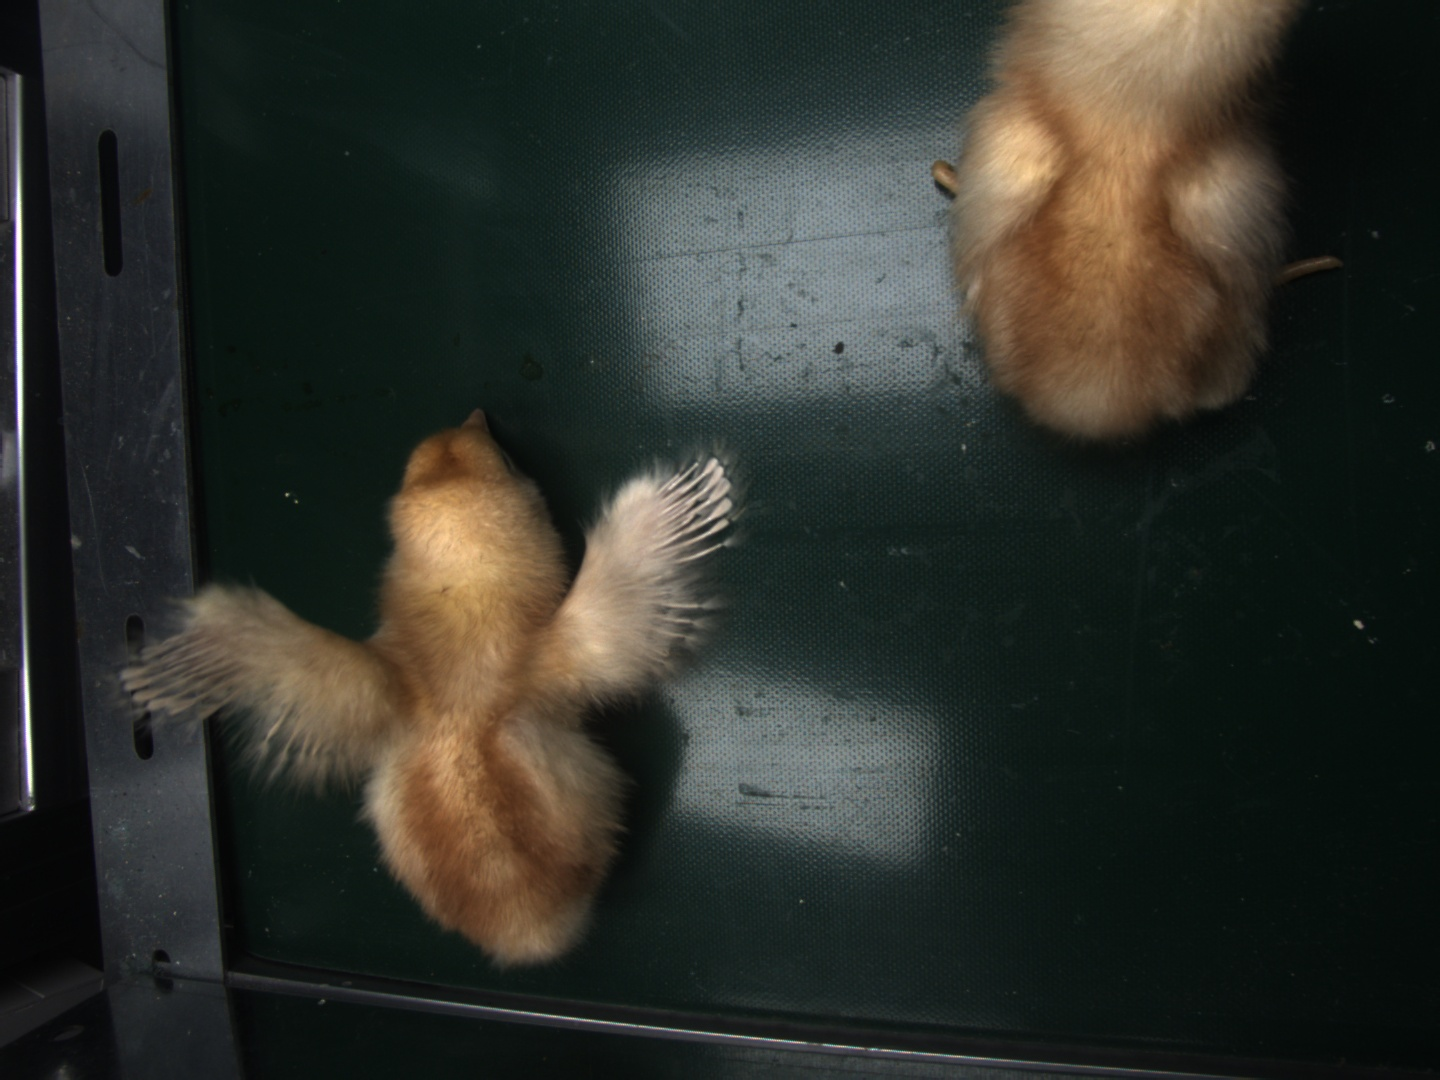female: (654, 453, 734, 556)
